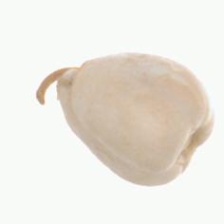L3: (55, 59, 100, 89)
L4: (56, 52, 214, 185)
